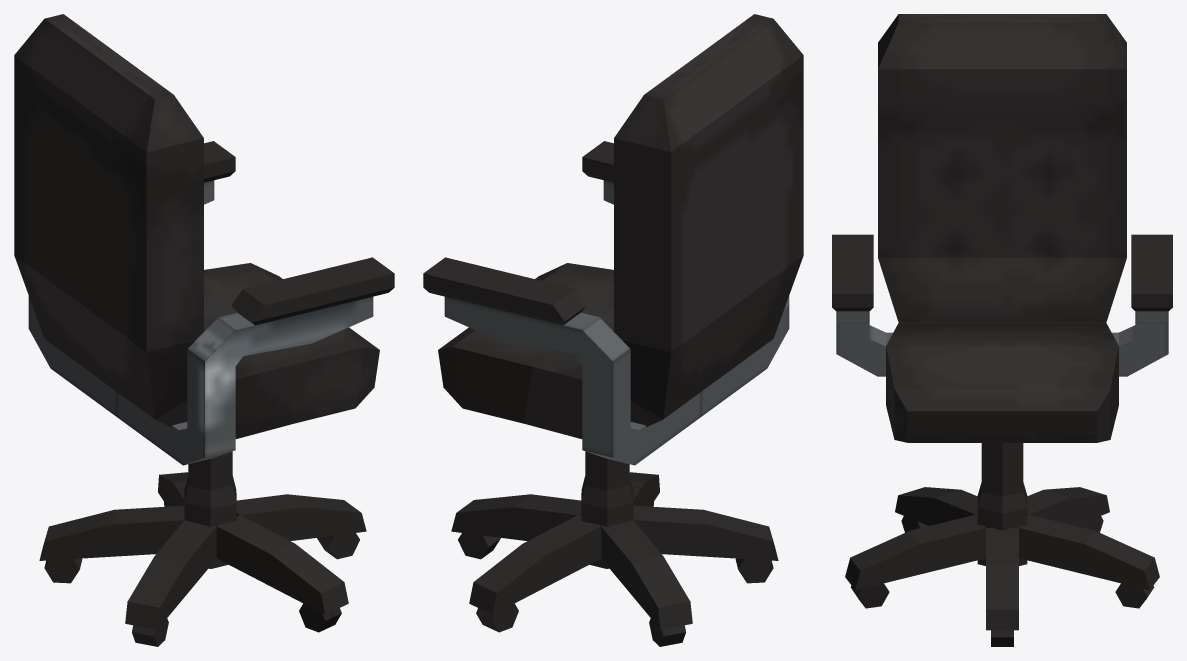
File: chair.fbx
3 views of the same model, side by side, from view 1: azimuth 30°, elevation 25°; view 2: azimuth 150°, elevation 25°; view 3: azimuth 270°, elevation 25° (orthographic). The views are drawn at different scales.
Visible parts, largest first — view 1: Regular, arm_L6, leg27, leg29, leg28, leg26, arm_R6, cylinder, leg30, cylinder_1, cylinder_4, cylinder_2 (+1 smaller); view 2: Regular, arm_R6, leg30, leg28, leg29, leg26, arm_L6, cylinder, leg27, cylinder_1, cylinder_3, cylinder_5 (+1 smaller); view 3: Regular, leg27, leg30, arm_L6, arm_R6, cylinder, leg26, leg28, leg29, cylinder_2, cylinder_5.
Part boxes in pixels (bbox=[...]): Regular: bbox=[14, 14, 379, 438]; arm_L6: bbox=[116, 257, 394, 465]; leg27: bbox=[216, 515, 348, 614]; leg29: bbox=[39, 505, 184, 560]; leg28: bbox=[125, 520, 216, 629]; leg26: bbox=[236, 494, 366, 540]; arm_R6: bbox=[28, 141, 235, 416]; cylinder: bbox=[184, 451, 236, 568]; leg30: bbox=[158, 472, 188, 506]; cylinder_1: bbox=[317, 533, 359, 559]; cylinder_4: bbox=[44, 558, 82, 583]; cylinder_2: bbox=[299, 603, 341, 632]; Regular: bbox=[438, 14, 803, 438]; arm_R6: bbox=[423, 257, 701, 465]; leg30: bbox=[469, 515, 601, 614]; leg28: bbox=[633, 505, 778, 560]; leg29: bbox=[601, 520, 692, 629]; leg26: bbox=[451, 494, 581, 540]; arm_L6: bbox=[582, 141, 789, 416]; cylinder: bbox=[581, 451, 633, 568]; leg27: bbox=[629, 472, 659, 506]; cylinder_1: bbox=[458, 533, 500, 559]; cylinder_3: bbox=[735, 558, 773, 583]; cylinder_5: bbox=[476, 603, 518, 632]; Regular: bbox=[878, 14, 1126, 442]; leg27: bbox=[845, 514, 985, 590]; leg30: bbox=[1019, 514, 1159, 590]; arm_L6: bbox=[832, 234, 892, 376]; arm_R6: bbox=[1112, 234, 1172, 376]; cylinder: bbox=[977, 443, 1027, 565]; leg26: bbox=[986, 528, 1018, 630]; leg28: bbox=[895, 487, 977, 525]; leg29: bbox=[1027, 487, 1109, 525]; cylinder_2: bbox=[850, 583, 889, 608]; cylinder_5: bbox=[1115, 583, 1154, 608].
Bounding box in the file's own units: 22.67 × 43.12 × 25.62.
1 material, 1 textured.
